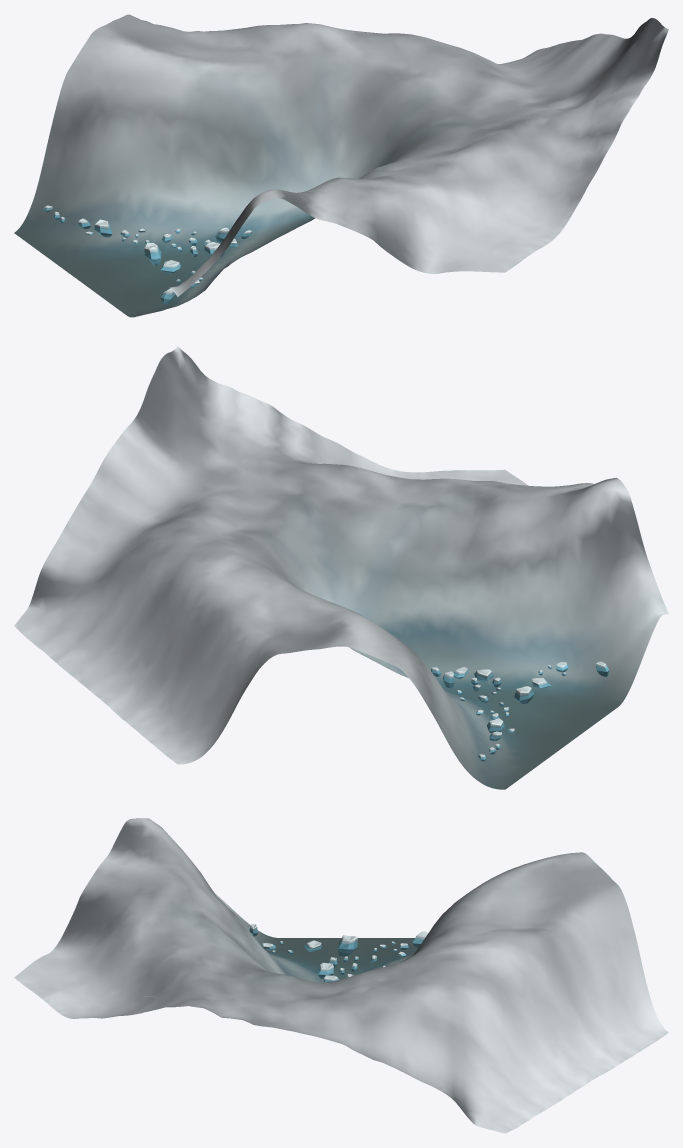
Rendered from costa_+01_-08.glb.
3 renders of one model, top to bottom at view 1: azimuth 30°, elevation 25°; view 2: azimuth 150°, elevation 25°; view 3: azimuth 270°, elevation 25°, orthographic.
Visible parts, largest first — view 1: terrain, Formações costeiras; view 2: terrain, Formações costeiras; view 3: terrain, Formações costeiras.
Part boxes in pixels (x1,y1,x2,y2): terrain: (14, 14, 668, 317); Formações costeiras: (43, 205, 251, 304); terrain: (14, 346, 668, 789); Formações costeiras: (431, 661, 609, 761); terrain: (14, 818, 668, 1133); Formações costeiras: (249, 924, 428, 982).
Size of the model in its own units: 4330 by 1723 by 5000.
1 material, 1 textured.
